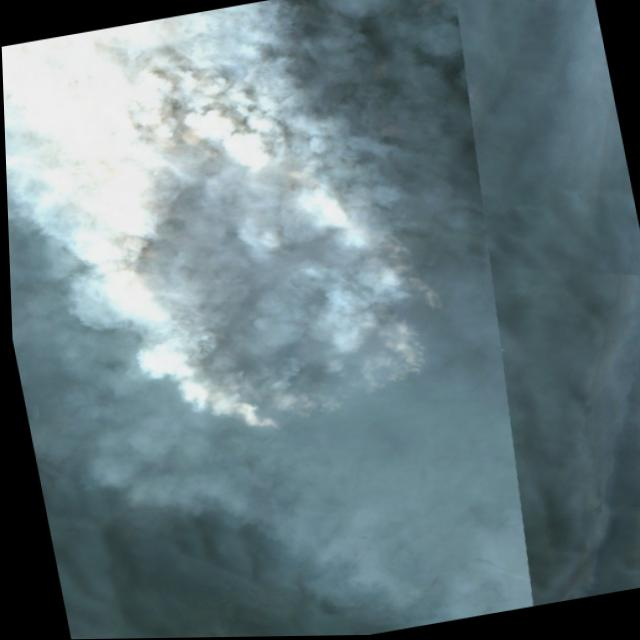fire: (58, 102, 473, 463)
